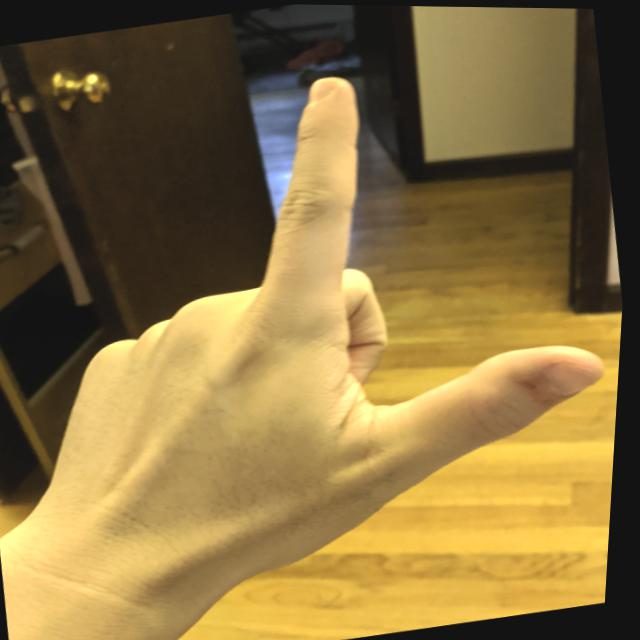L: (0, 25, 638, 639)
